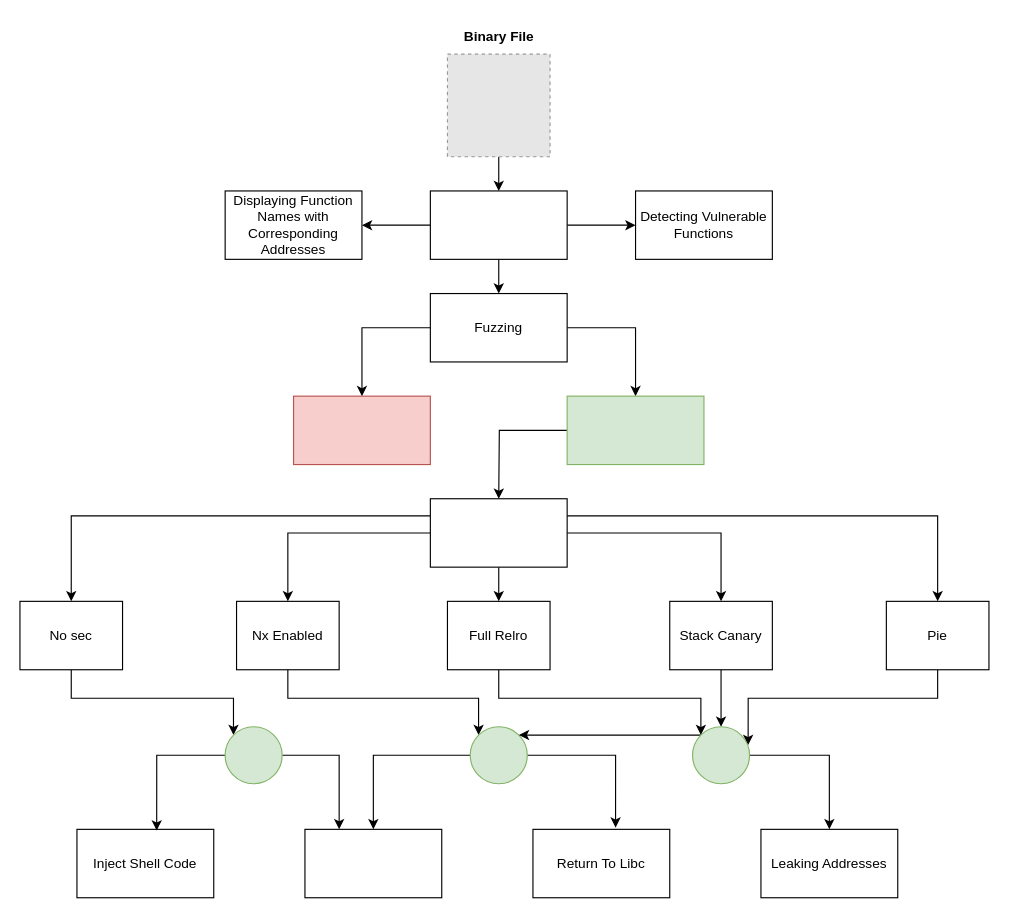
The diagram is 1009 pixels wide and 918 high, and some of its shapes have lost their labels. Grey dashed boxes stand in for pictures. The shapes that lost their labels are listed below. From the top down, each one's box as (x1, y1, x2, y2) in pixels, then its label:
(429, 190, 567, 259): Static Analysis
(292, 395, 430, 465): Not vulnerable
(566, 395, 704, 465): Vulnerable
(429, 498, 567, 567): Check security features
(304, 828, 442, 898): Return To Function
